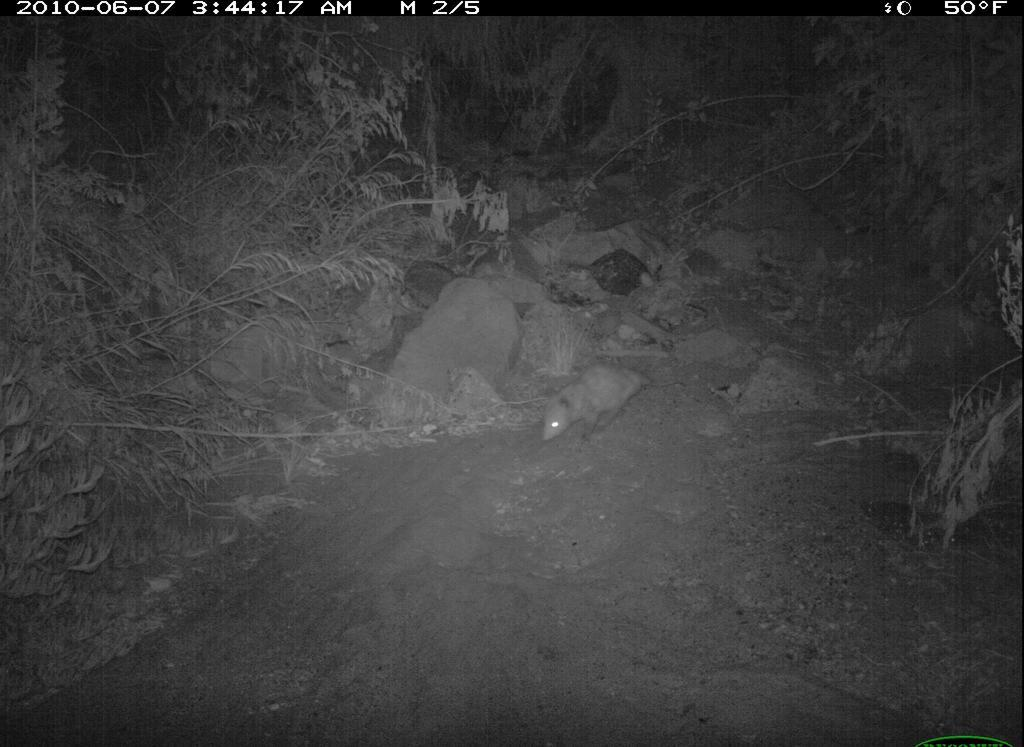opossum: (518, 356, 669, 464)
